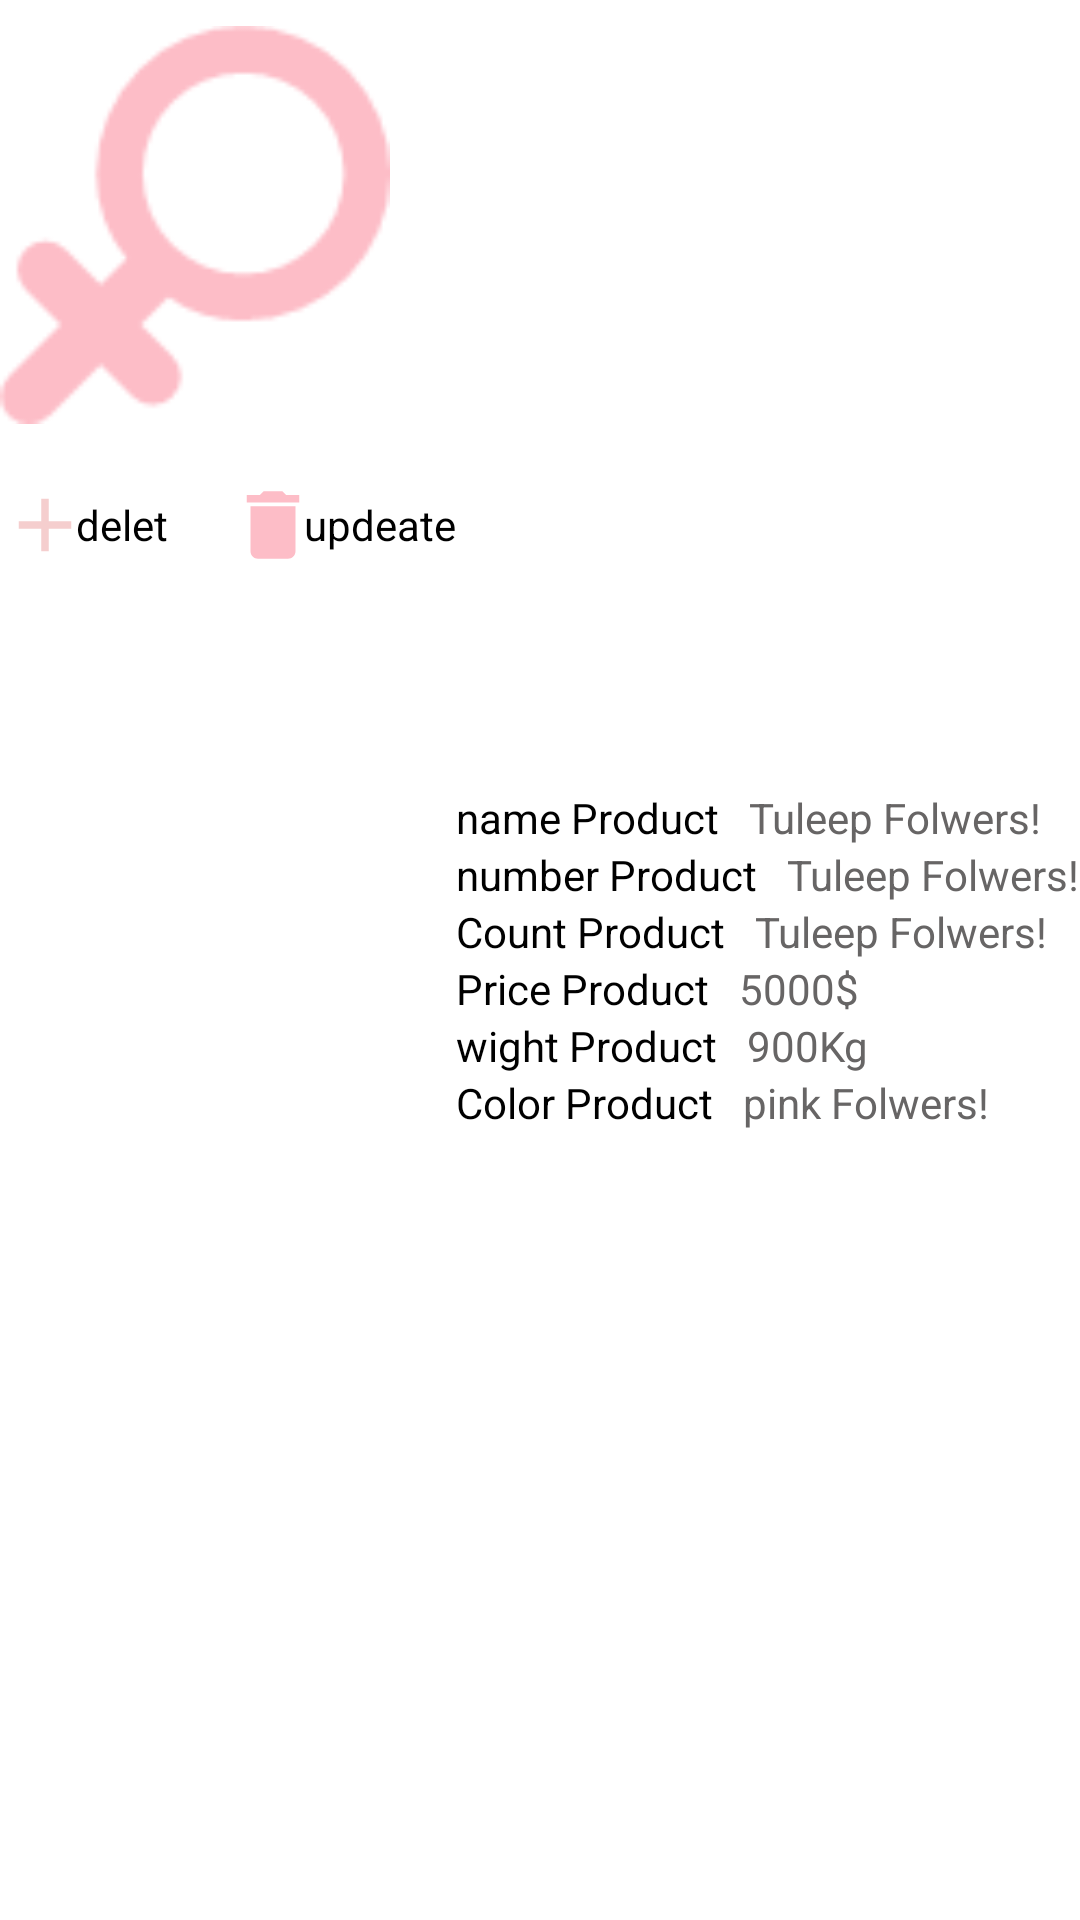

Locate icon controls on the screen. Image size 1080 × 1920, boxes as {"left": x1, "top": y1, "right": x2, "bottom": y2}.
add: {"left": 19, "top": 499, "right": 71, "bottom": 551}
